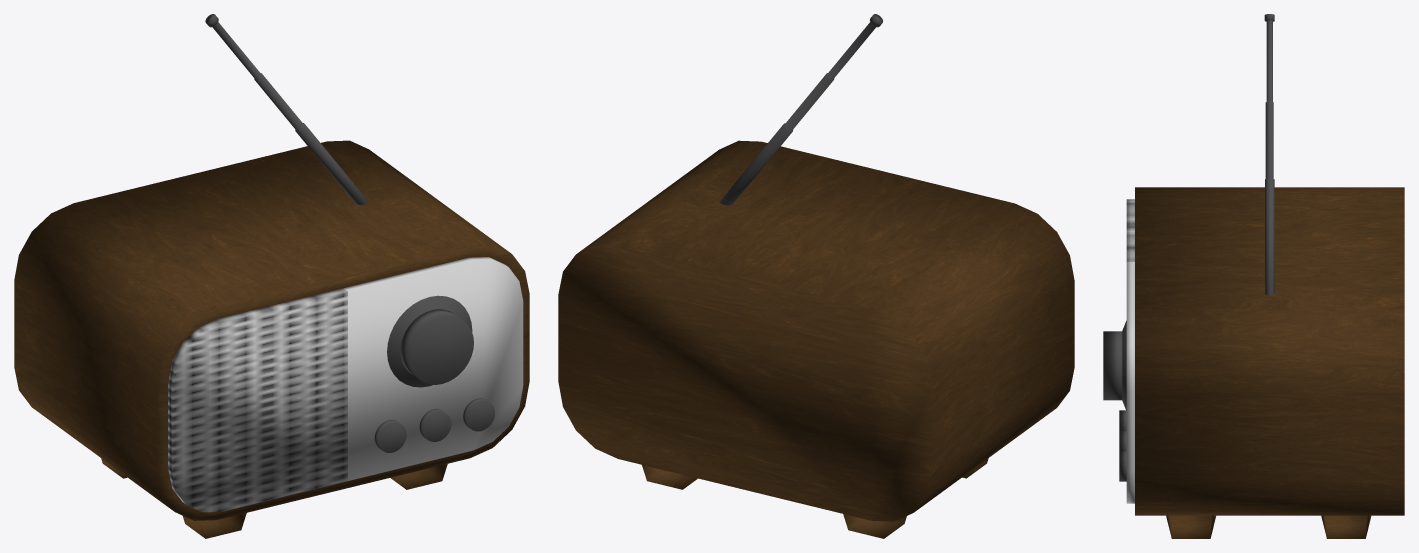
Rendered from finalRadio.fbx.
3 renders of one model, left to right at view 1: azimuth 30°, elevation 25°; view 2: azimuth 150°, elevation 25°; view 3: azimuth 270°, elevation 25°, orthographic. The views are drawn at different scales.
Parts seen in each view (by area): view 1: base, buttons, antenna; view 2: base, antenna; view 3: base, antenna, buttons.
Boxes of the visible parts, bbox=[...] form: base: bbox=[14, 140, 529, 538]; buttons: bbox=[374, 295, 494, 452]; antenna: bbox=[205, 14, 368, 204]; base: bbox=[558, 140, 1074, 538]; antenna: bbox=[719, 14, 882, 205]; base: bbox=[1126, 187, 1404, 538]; antenna: bbox=[1264, 14, 1274, 295]; buttons: bbox=[1103, 320, 1126, 481].
Bounding box in the file's own units: 16.51 × 19.99 × 12.28.
